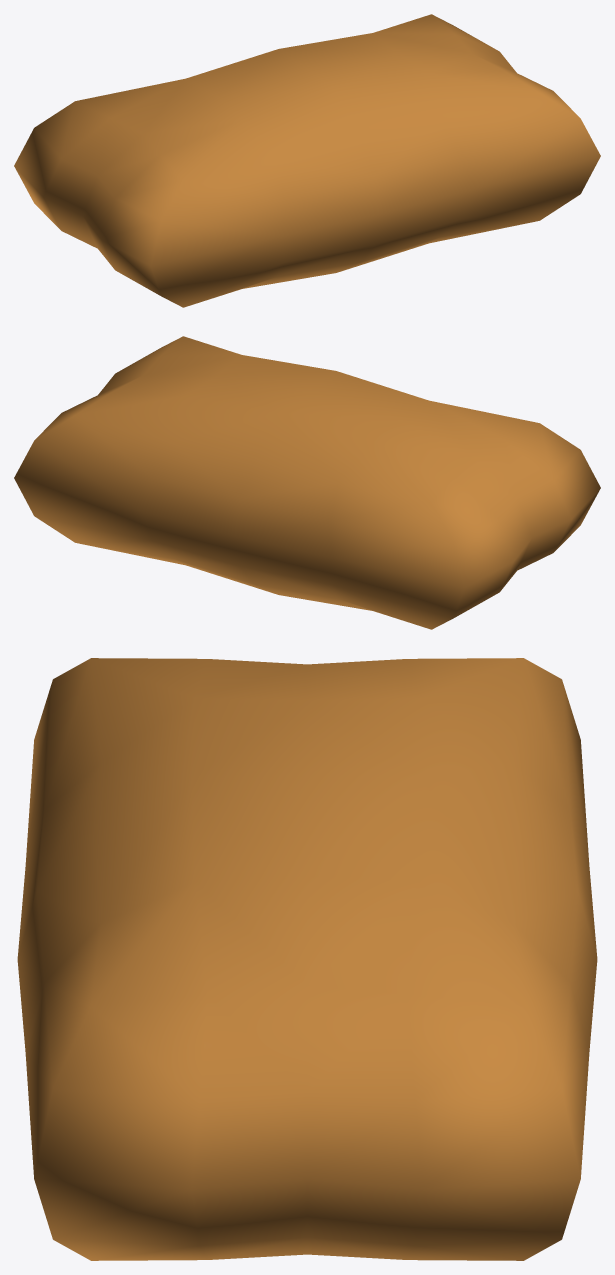
File: sandbag_1_bag_large.FBX
3 renders of one model, top to bottom at view 1: azimuth 30°, elevation 25°; view 2: azimuth 150°, elevation 25°; view 3: azimuth 270°, elevation 25°, orthographic. The views are drawn at different scales.
Parts seen in each view (by area): view 1: sandbag_1_bag_large; view 2: sandbag_1_bag_large; view 3: sandbag_1_bag_large.
Boxes of the visible parts, x1,y1,x2,y2 form: sandbag_1_bag_large: (14, 14, 600, 307); sandbag_1_bag_large: (14, 336, 600, 629); sandbag_1_bag_large: (17, 658, 597, 1260).
Size of the model in its own units: 47.17 by 25.18 by 17.6.
